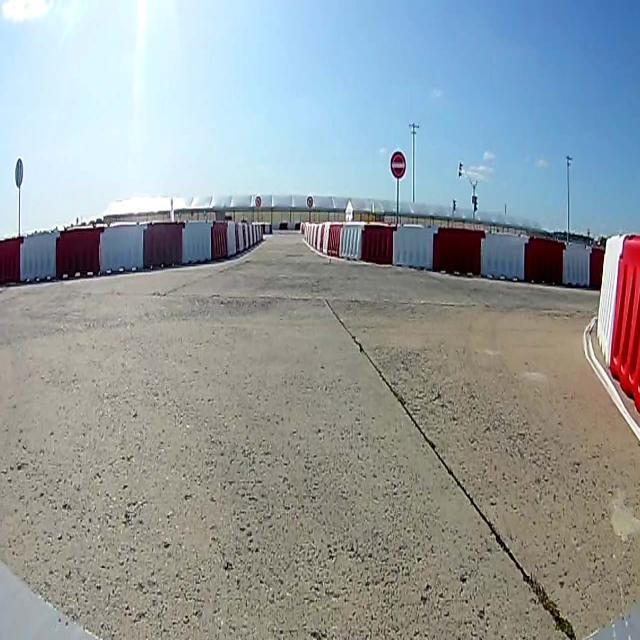girisyok: (389, 150, 407, 180)
